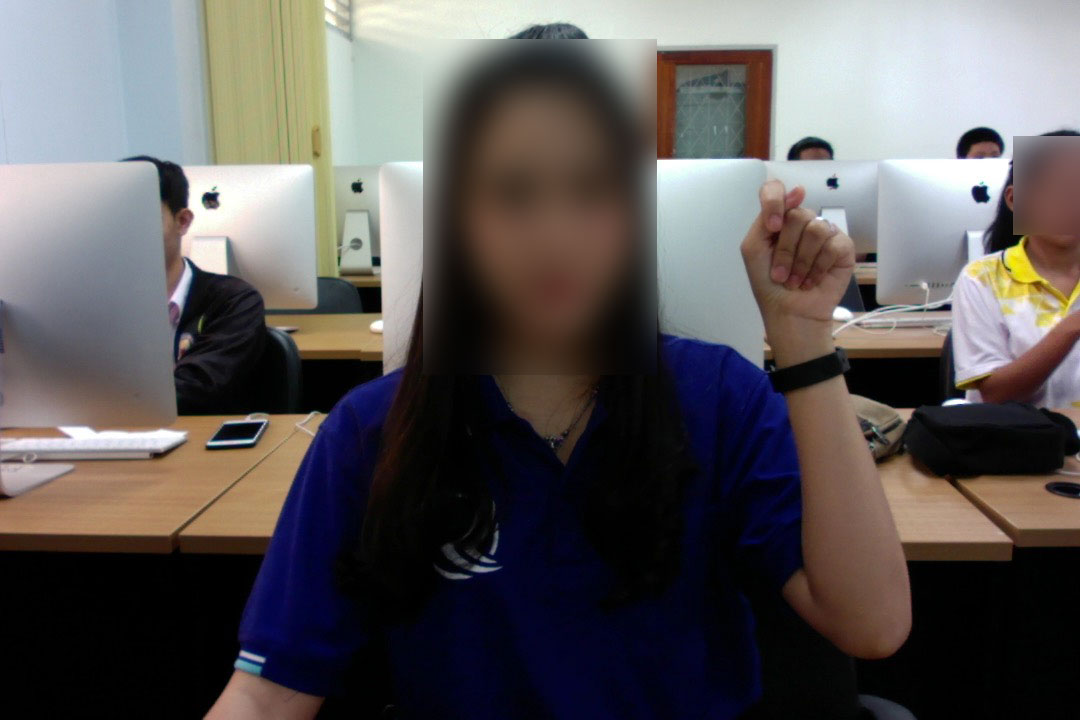tor: (729, 173, 863, 351)
